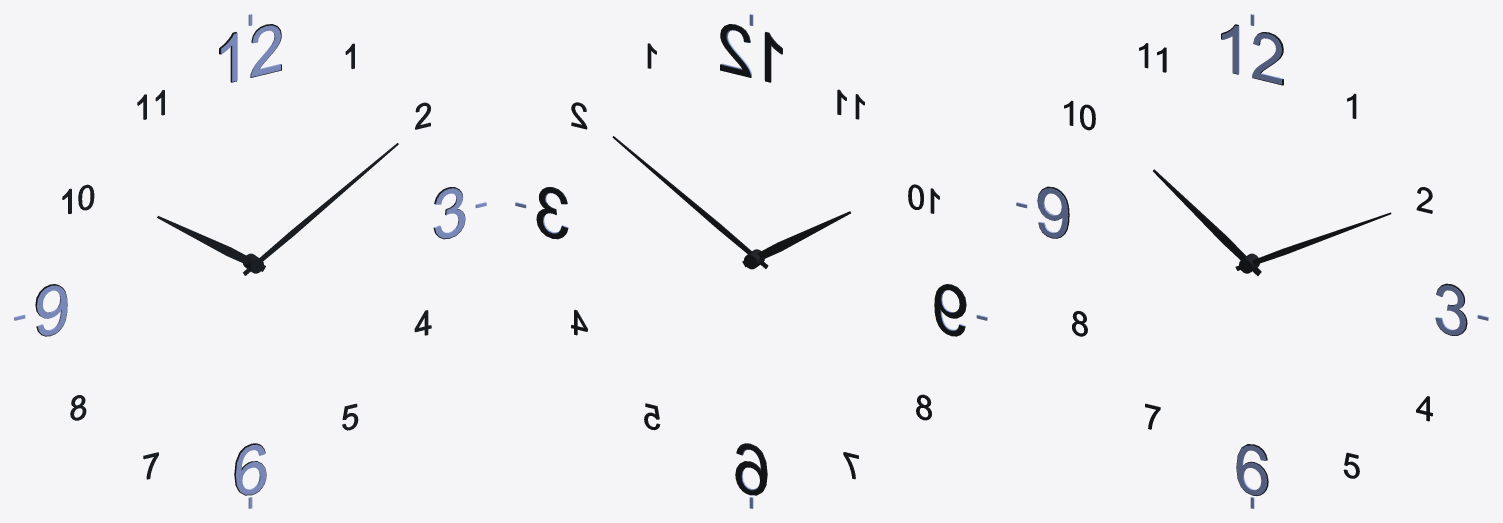
The model's file is wallClock-5.glb.
3 renders of one model, left to right at view 1: azimuth 30°, elevation 25°; view 2: azimuth 150°, elevation 25°; view 3: azimuth 330°, elevation 25°, orthographic.
Parts seen in each view (by area): view 1: Clock_EDS_lavender, Clock_graphite, Clock_minute_hand_blade, Clock_hour_hand_blade; view 2: Clock_graphite, Clock_minute_hand_blade, Clock_EDS_lavender, Clock_hour_hand_blade; view 3: Clock_EDS_lavender, Clock_graphite, Clock_hour_hand_blade, Clock_minute_hand_blade.
Boxes of the visible parts, bbox=[...] form: Clock_EDS_lavender: bbox=[14, 14, 486, 508]; Clock_graphite: bbox=[35, 24, 465, 495]; Clock_minute_hand_blade: bbox=[243, 143, 398, 275]; Clock_hour_hand_blade: bbox=[157, 216, 265, 271]; Clock_graphite: bbox=[536, 24, 966, 495]; Clock_minute_hand_blade: bbox=[612, 136, 768, 268]; Clock_EDS_lavender: bbox=[515, 14, 987, 508]; Clock_hour_hand_blade: bbox=[742, 211, 850, 267]; Clock_EDS_lavender: bbox=[1016, 14, 1488, 508]; Clock_graphite: bbox=[1037, 24, 1467, 495]; Clock_hour_hand_blade: bbox=[1153, 169, 1261, 275]; Clock_minute_hand_blade: bbox=[1235, 212, 1391, 270].
Bounding box in the file's own units: 1.25 × 1.25 × 0.035.
